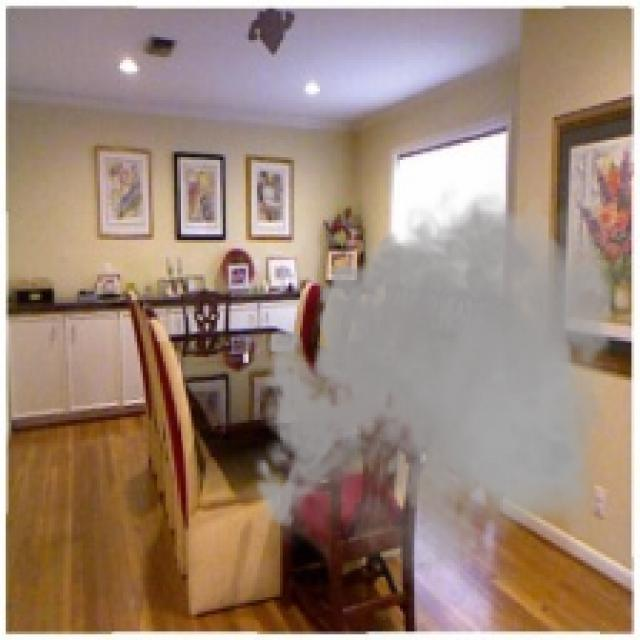smoke: (243, 177, 628, 594)
